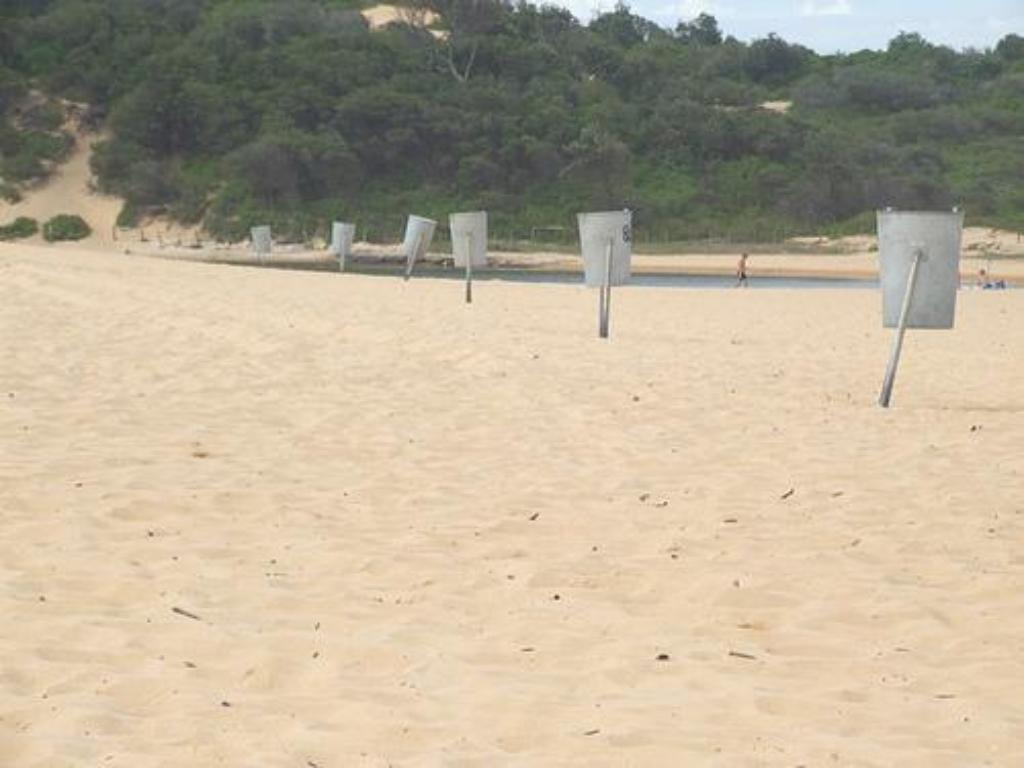dustbin: (849, 200, 988, 389), (561, 205, 655, 335), (444, 207, 500, 308), (400, 209, 447, 281), (328, 209, 363, 280)
